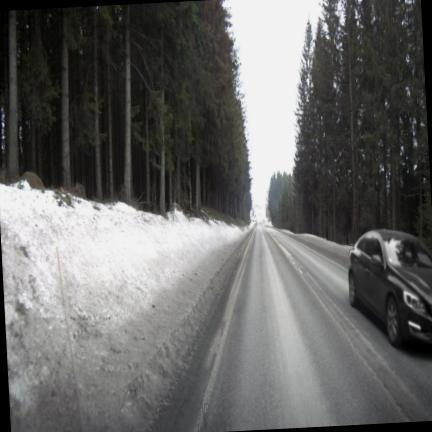Road: (162, 226, 431, 431)
